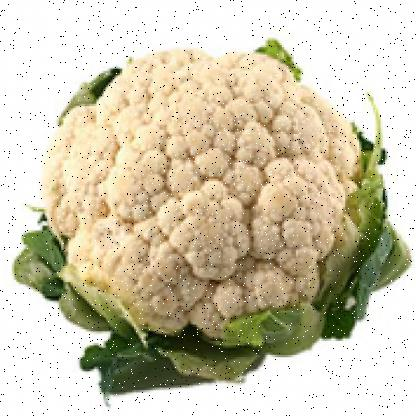cauliflower: (31, 47, 395, 369)
